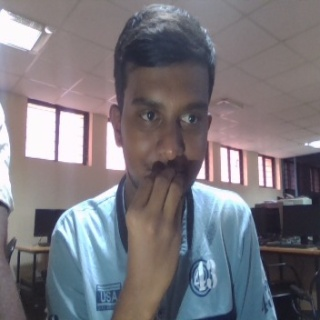Food: (125, 167, 187, 313)
